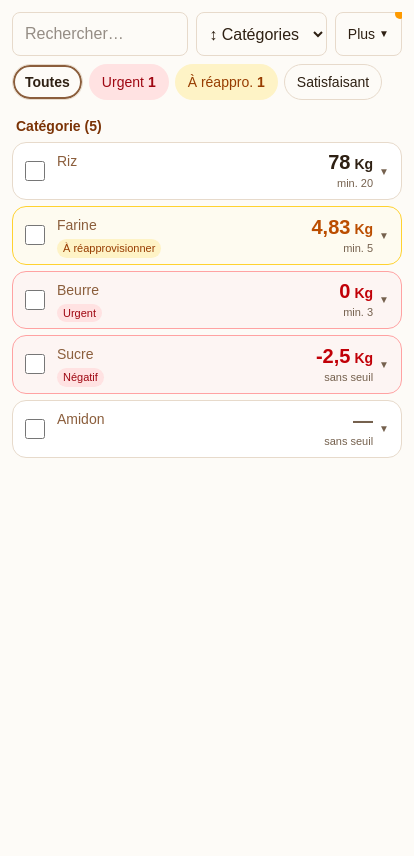
Test case: bloc du haut sur téléphone — compact, filtres toujours présents › « Plus » est replié au départ, puis montre la valeur du stock, le compteur, À compléter, l'ajout et l'export
Click the button "Plus ▼" at (368, 34), box x1=335 y1=12 x2=402 y2=56
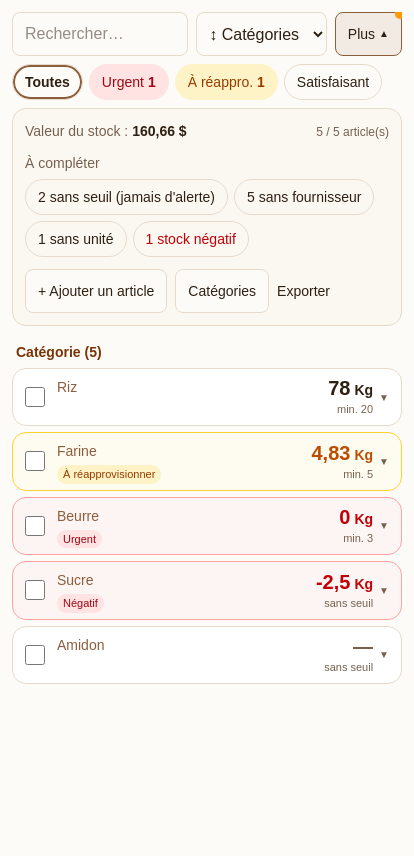
Expected: the button "Plus ▲" is expanded, x1=335 y1=12 x2=402 y2=56
Expected: the element with id "inventaire-plus" shows "Valeur du stock", x1=25 y1=123 x2=132 y2=139
Expected: the element with id "inventaire-plus" shows "5 / 5 article(s)", x1=12 y1=108 x2=402 y2=326
